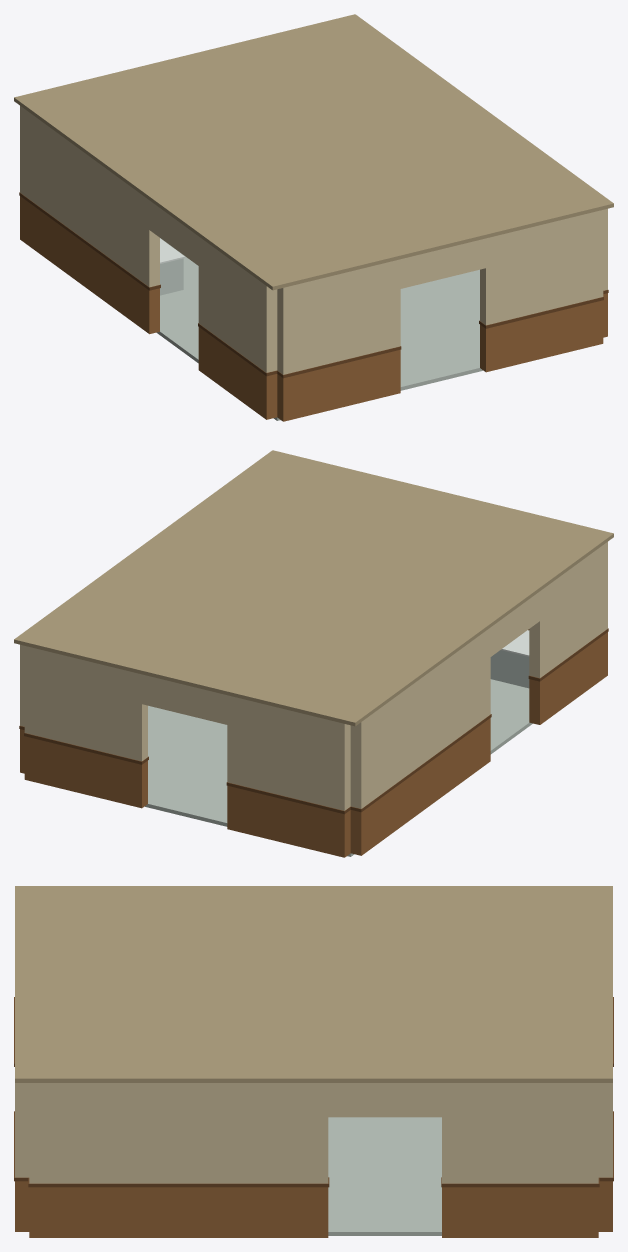
File: room_botany_microscopy_lab.glb
3 views of the same model, one above another, from view 1: azimuth 30°, elevation 25°; view 2: azimuth 150°, elevation 25°; view 3: azimuth 270°, elevation 25° (orthographic). The views are drawn at different scales.
Parts seen in each view (by area): view 1: room_botany_microscopy_lab; view 2: room_botany_microscopy_lab; view 3: room_botany_microscopy_lab.
Boxes of the visible parts, x1,y1,x2,y2 form: room_botany_microscopy_lab: (14, 14, 613, 421); room_botany_microscopy_lab: (14, 450, 613, 857); room_botany_microscopy_lab: (14, 886, 613, 1237).
Size of the model in its own units: 9.62 by 3.8 by 12.64.
1 material, 1 textured.
